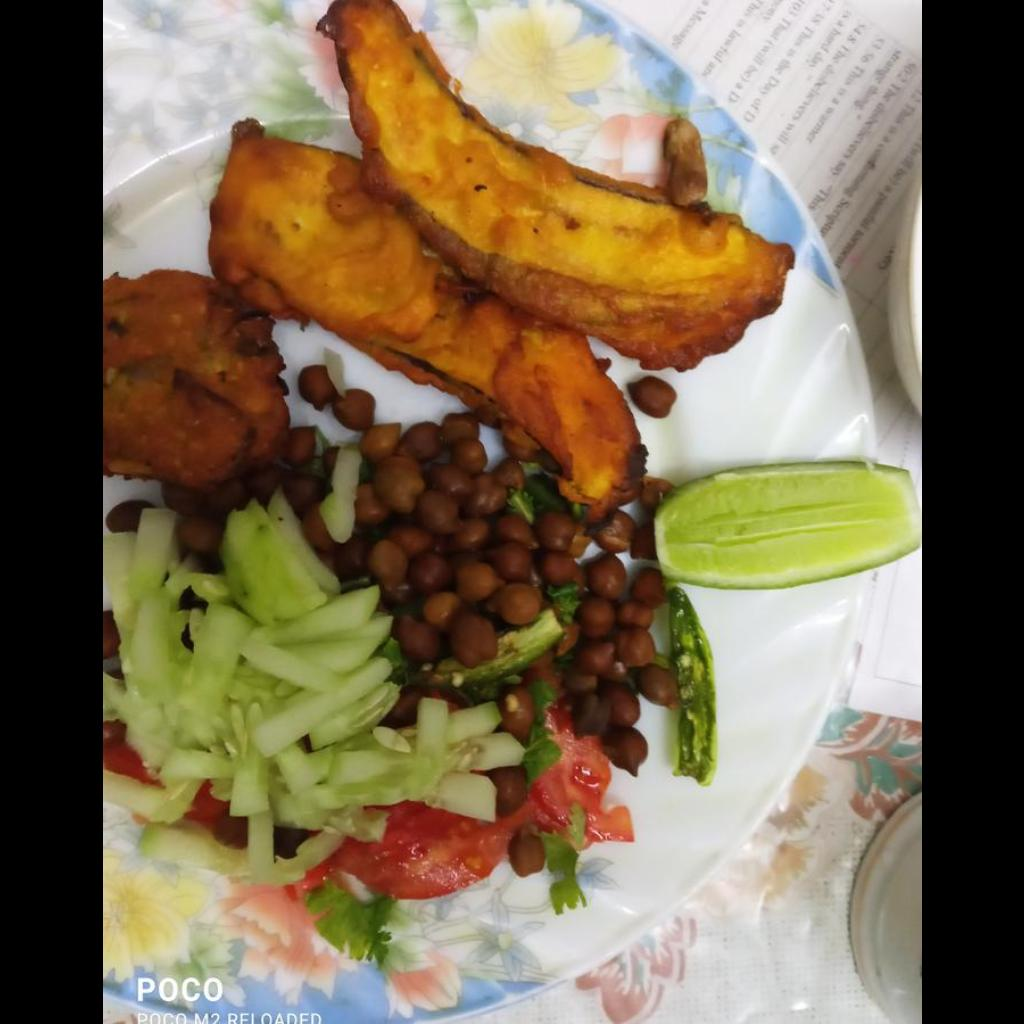beguni: (201, 7, 804, 506)
chola: (297, 425, 668, 770)
lemon: (655, 461, 920, 589)
peyaju: (102, 275, 292, 478)
salad: (106, 505, 526, 870)
